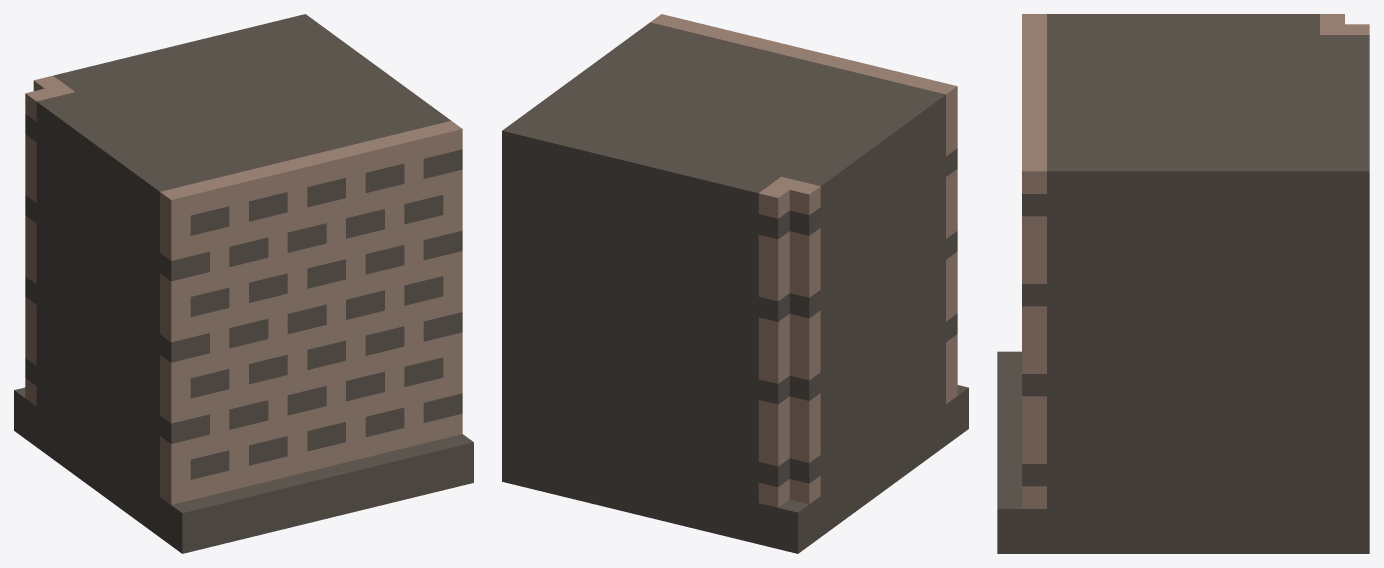
The model's file is dungeon_a_b_outer_wall_segment_c.obj.
3 views of the same model, side by side, from view 1: azimuth 30°, elevation 25°; view 2: azimuth 150°, elevation 25°; view 3: azimuth 270°, elevation 25° (orthographic). The views are drawn at different scales.
Bounding box in the file's own units: 1.5 × 1.7 × 1.5.
1 material, 1 textured.
